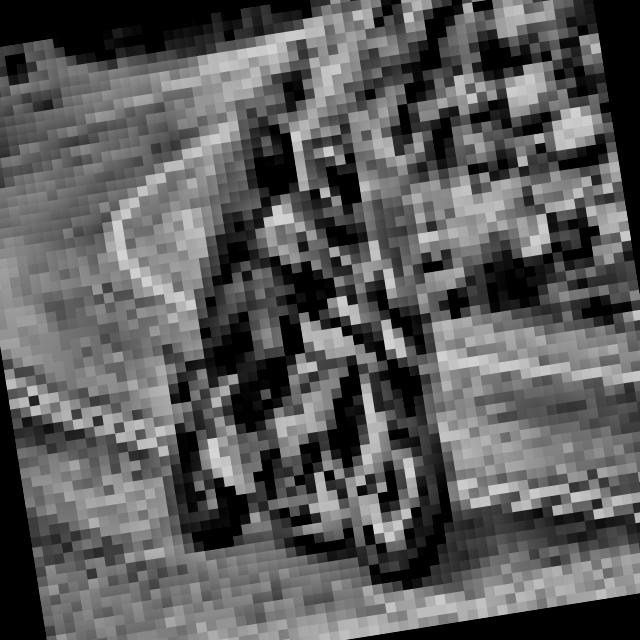mopeds: (97, 198, 509, 630)
